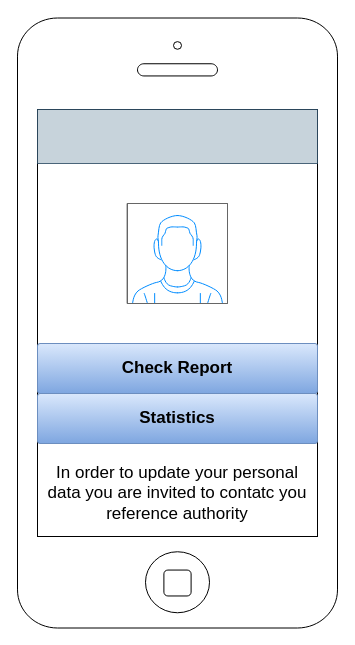
Some shapes in this 355 by 645 pixel diagram are drawn without their labels. The centre of each missing label's shape, as x and y in pixels:
"Mario Rossi" belongs at (177,253).
"Menu officer" belongs at (177,136).
